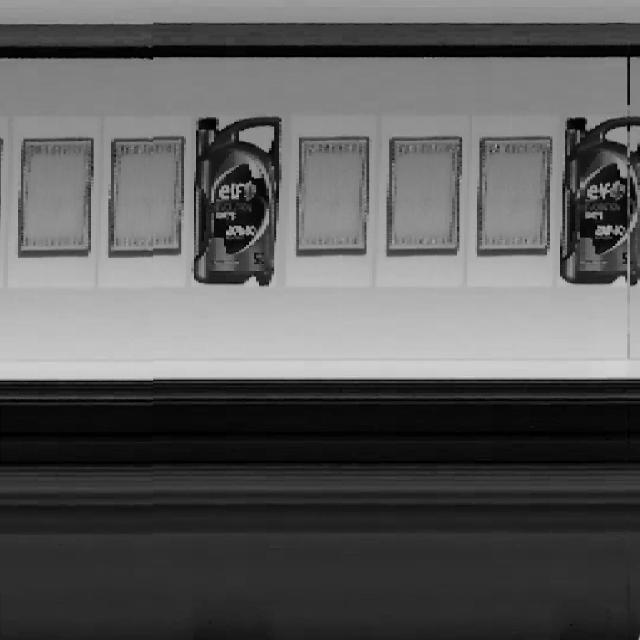air_filter: (13, 132, 97, 264), (105, 132, 187, 264), (383, 130, 466, 260), (292, 129, 373, 259), (474, 130, 554, 258)
motor_oil: (192, 110, 284, 289), (562, 112, 640, 301)
